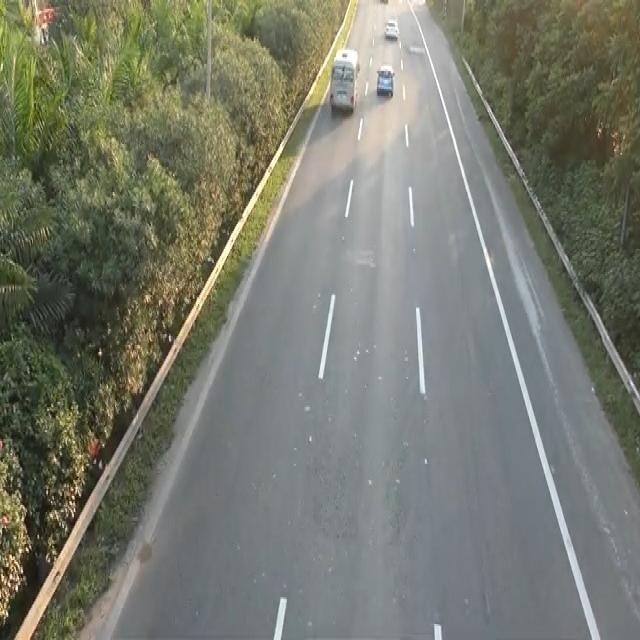bus: (375, 62, 395, 98), (383, 16, 399, 39)
jeep: (328, 46, 360, 116)
